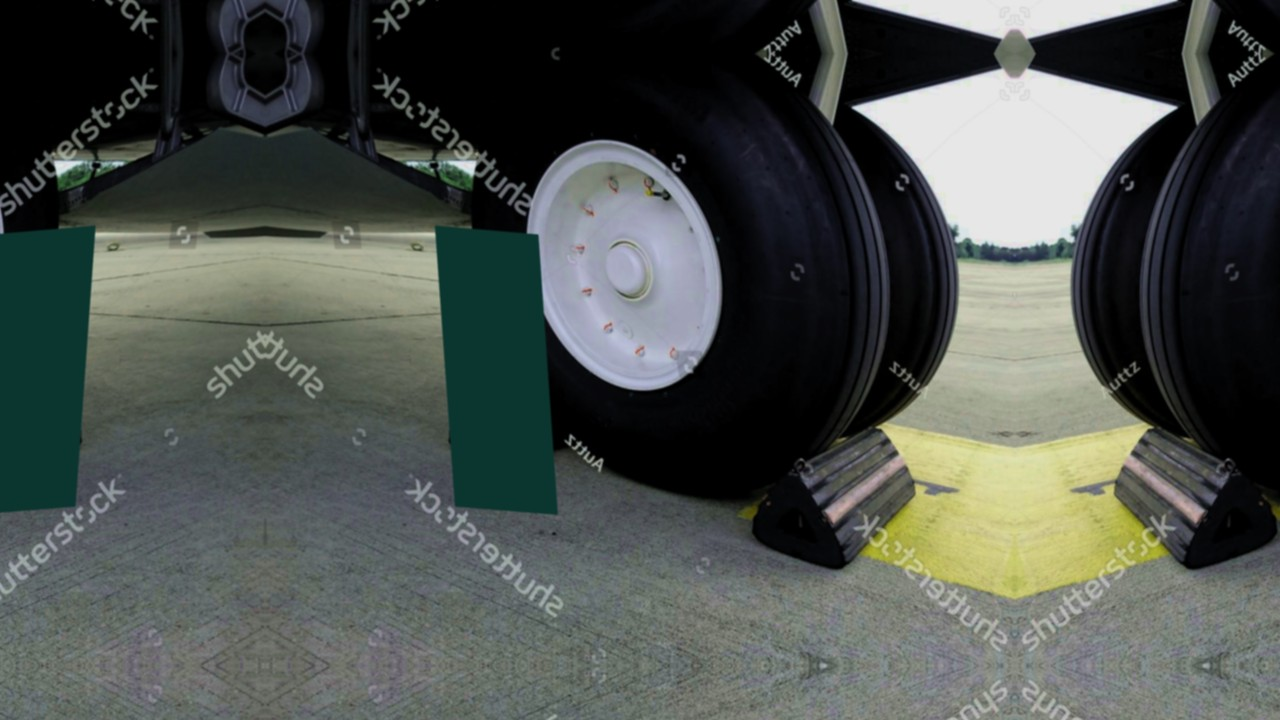chock: (746, 415, 922, 576), (1108, 415, 1280, 576), (442, 366, 578, 474), (0, 366, 88, 474)
wheel: (477, 53, 886, 511), (1144, 53, 1280, 511), (815, 100, 973, 442), (1057, 100, 1215, 442), (0, 53, 53, 511), (477, 0, 886, 54)
